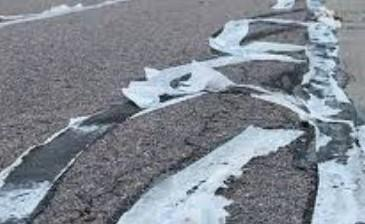crack: (70, 167, 119, 221), (179, 106, 220, 148), (243, 24, 306, 42), (247, 9, 305, 17)
pothole: (265, 66, 304, 98)
